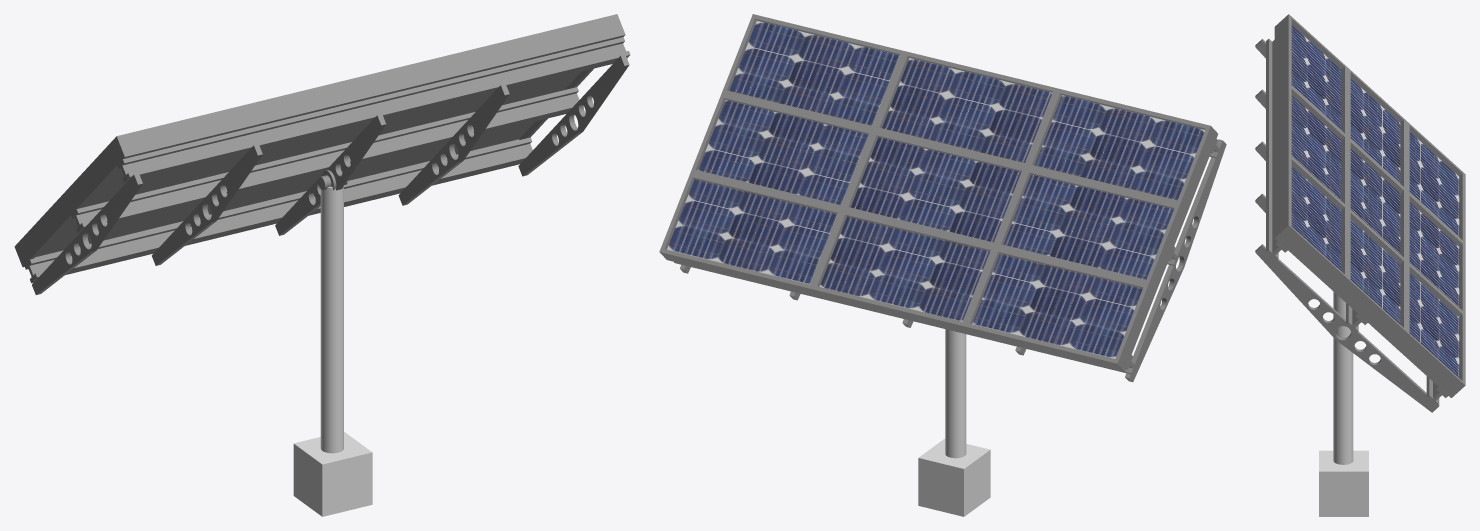
File: solpanel.fbx
3 renders of one model, left to right at view 1: azimuth 30°, elevation 25°; view 2: azimuth 150°, elevation 25°; view 3: azimuth 270°, elevation 25°, orthographic. The views are drawn at different scales.
Parts seen in each view (by area): view 1: solpanel, pelare, betong; view 2: solpanel, betong, pelare; view 3: solpanel, betong, pelare.
Boxes of the visible parts, x1,y1,x2,y2 form: solpanel: (14,14,630,294); pelare: (320,186,343,453); betong: (293,432,372,516); solpanel: (659,14,1226,382); betong: (918,438,990,516); pelare: (945,329,966,458); solpanel: (1255,14,1465,412); betong: (1319,450,1368,516); pelare: (1333,291,1353,464).
Size of the model in its own units: 5000 by 4276 by 2102.
Materials: 2 (1 with a texture image).
